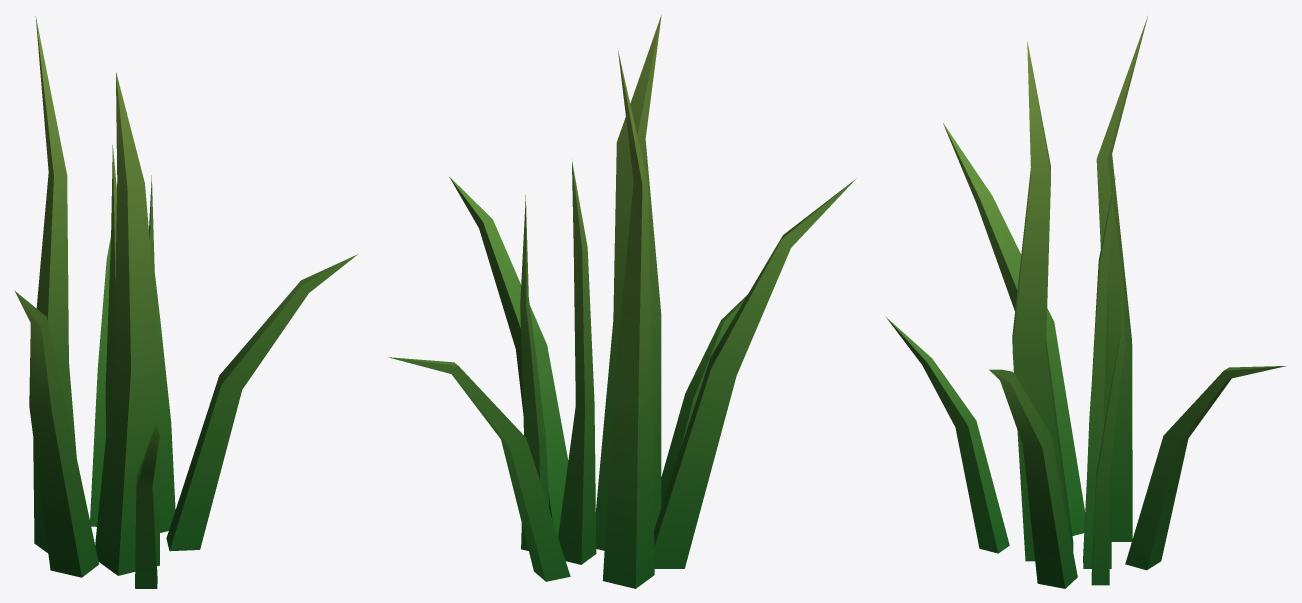
The model's file is Grass_01.fbx.
3 renders of one model, left to right at view 1: azimuth 30°, elevation 25°; view 2: azimuth 150°, elevation 25°; view 3: azimuth 270°, elevation 25°, orthographic. The views are drawn at different scales.
Visible parts, largest first — view 1: Grass_01; view 2: Grass_01; view 3: Grass_01.
Boxes of the visible parts, x1=… form: Grass_01: x1=14, y1=16, x2=357, y2=588; Grass_01: x1=388, y1=15, x2=856, y2=588; Grass_01: x1=886, y1=16, x2=1285, y2=588.
Bounding box in the file's own units: 47.49 × 64.35 × 45.38.
